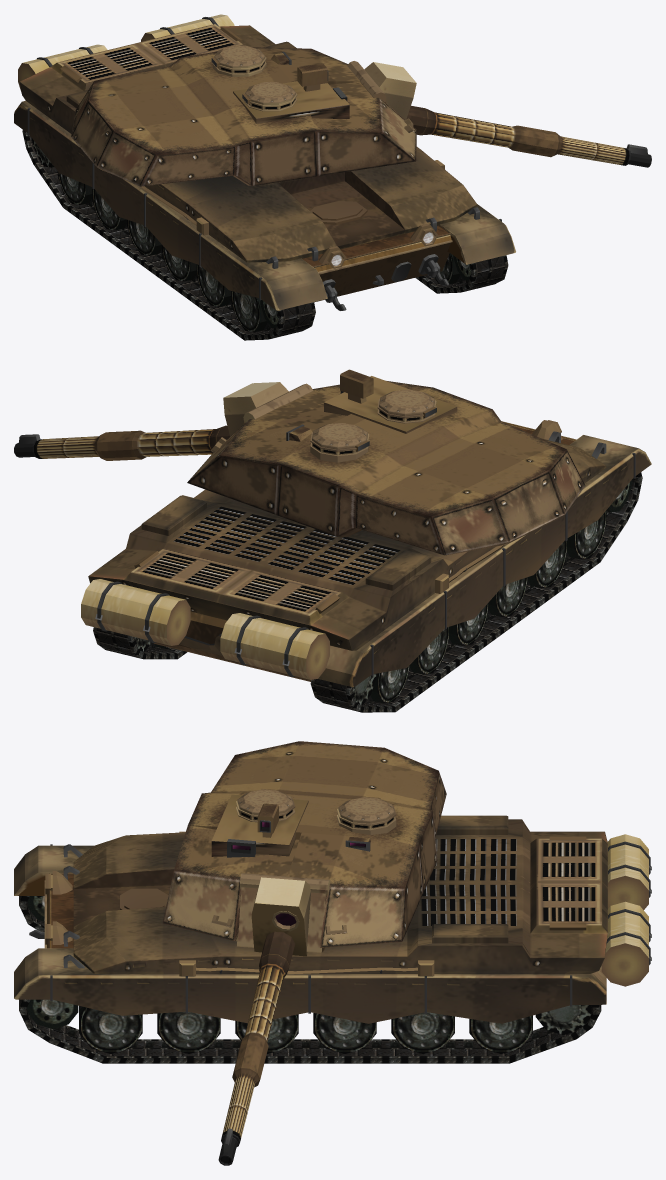
File: Challenger damaged tank2.fbx
The picture shows the model from 3 angles, top to bottom: view 1: azimuth 30°, elevation 25°; view 2: azimuth 150°, elevation 25°; view 3: azimuth 270°, elevation 25°; orthographic projection. The views are drawn at different scales.
Visible parts, largest first — view 1: polySurface443, polySurface418, polySurface417; view 2: polySurface443, polySurface418, polySurface417; view 3: polySurface443, polySurface417.
Part boxes in pixels (left/top/right/bottom): polySurface443: left=14, top=14, right=651, bottom=332; polySurface418: left=22, top=130, right=315, bottom=340; polySurface417: left=415, top=255, right=508, bottom=293; polySurface443: left=14, top=369, right=651, bottom=705; polySurface418: left=310, top=472, right=642, bottom=712; polySurface417: left=93, top=627, right=187, bottom=659; polySurface443: left=14, top=741, right=651, bottom=1165; polySurface417: left=19, top=999, right=601, bottom=1063.
Bounding box in the file's own units: 647 × 219 × 613.
